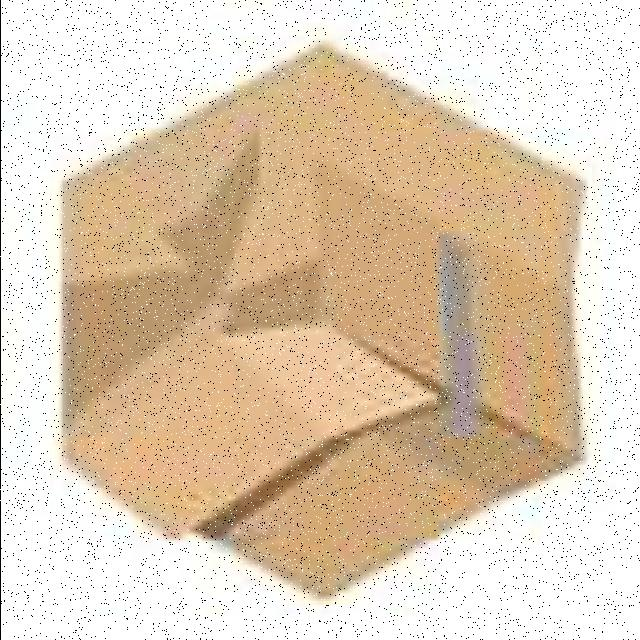defect: (52, 36, 591, 606)
